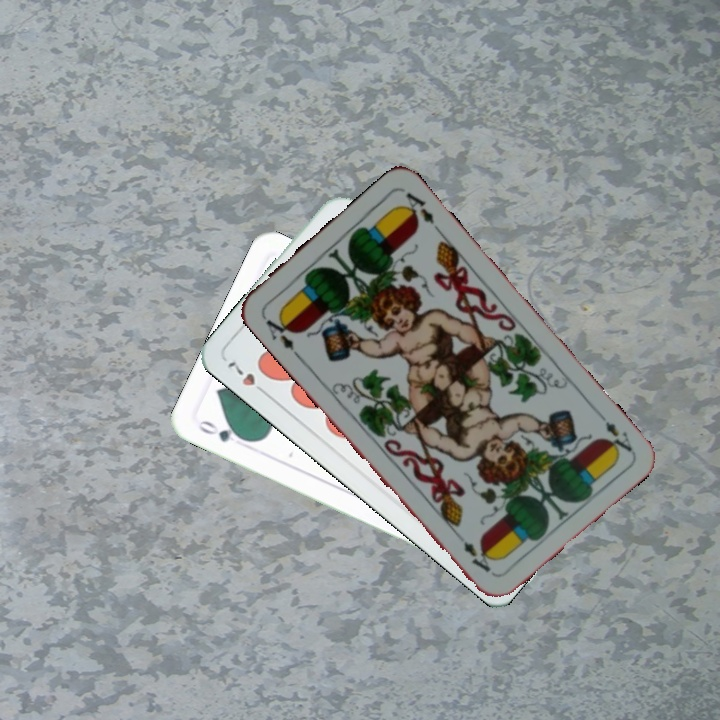EA: (591, 406, 635, 457), (259, 310, 298, 353)
GO: (194, 416, 251, 445)
H7: (223, 357, 271, 399)
